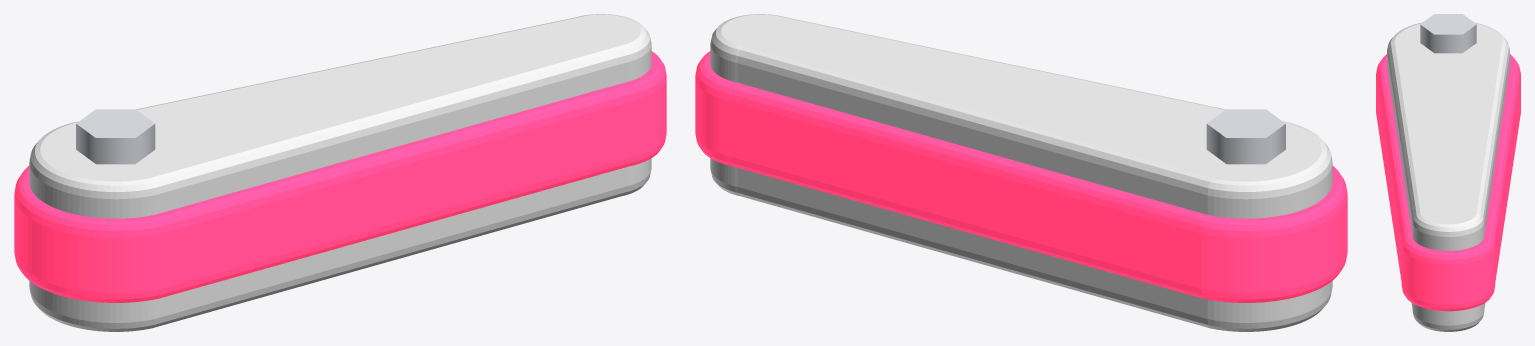
Rendered from pp_flipper.glb.
3 renders of one model, left to right at view 1: azimuth 30°, elevation 25°; view 2: azimuth 150°, elevation 25°; view 3: azimuth 270°, elevation 25°, orthographic. The views are drawn at different scales.
Parts seen in each view (by area): view 1: Bat, Rubber, Pivot; view 2: Bat, Rubber, Pivot; view 3: Bat, Rubber, Pivot.
Part boxes in pixels (left/top/right/bottom): Bat: left=29, top=14, right=651, bottom=331; Rubber: left=14, top=51, right=666, bottom=302; Pivot: left=76, top=109, right=155, bottom=164; Bat: left=710, top=14, right=1332, bottom=331; Rubber: left=695, top=51, right=1347, bottom=302; Pivot: left=1206, top=109, right=1285, bottom=164; Bat: left=1387, top=22, right=1509, bottom=331; Rubber: left=1376, top=54, right=1520, bottom=311; Pivot: left=1420, top=14, right=1476, bottom=53.
Bounding box in the file's own units: 0.1012 × 0.027 × 0.0282.
